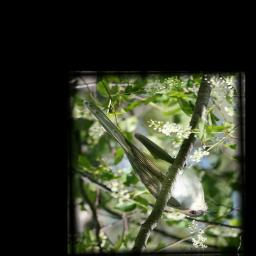Cuckoo: (80, 92, 219, 221)
